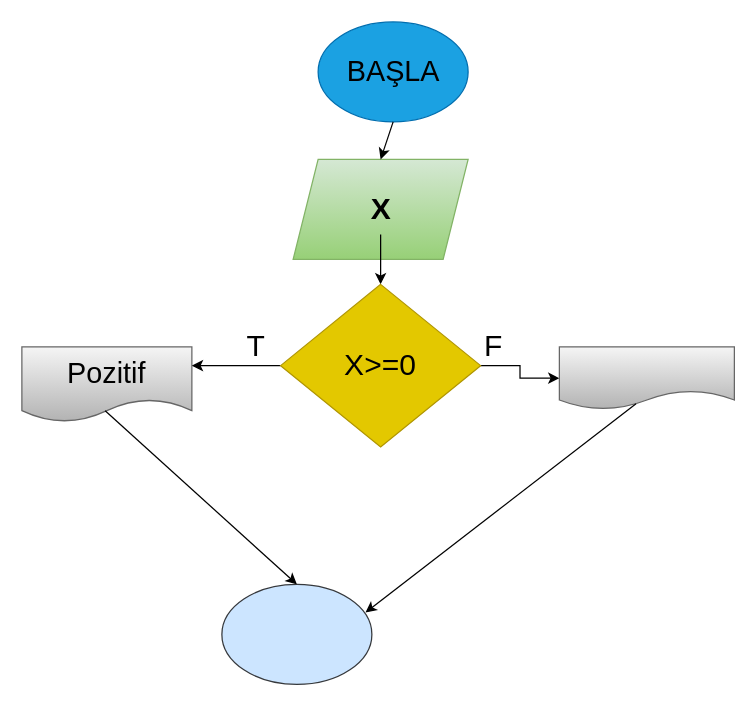
Image size: 756x706. Some labels were removed from this diagram. The centre of each missing label's shape, as x and y in pixels:
"BİTİR" goes at (296,633).
"Negatif" goes at (646,377).
